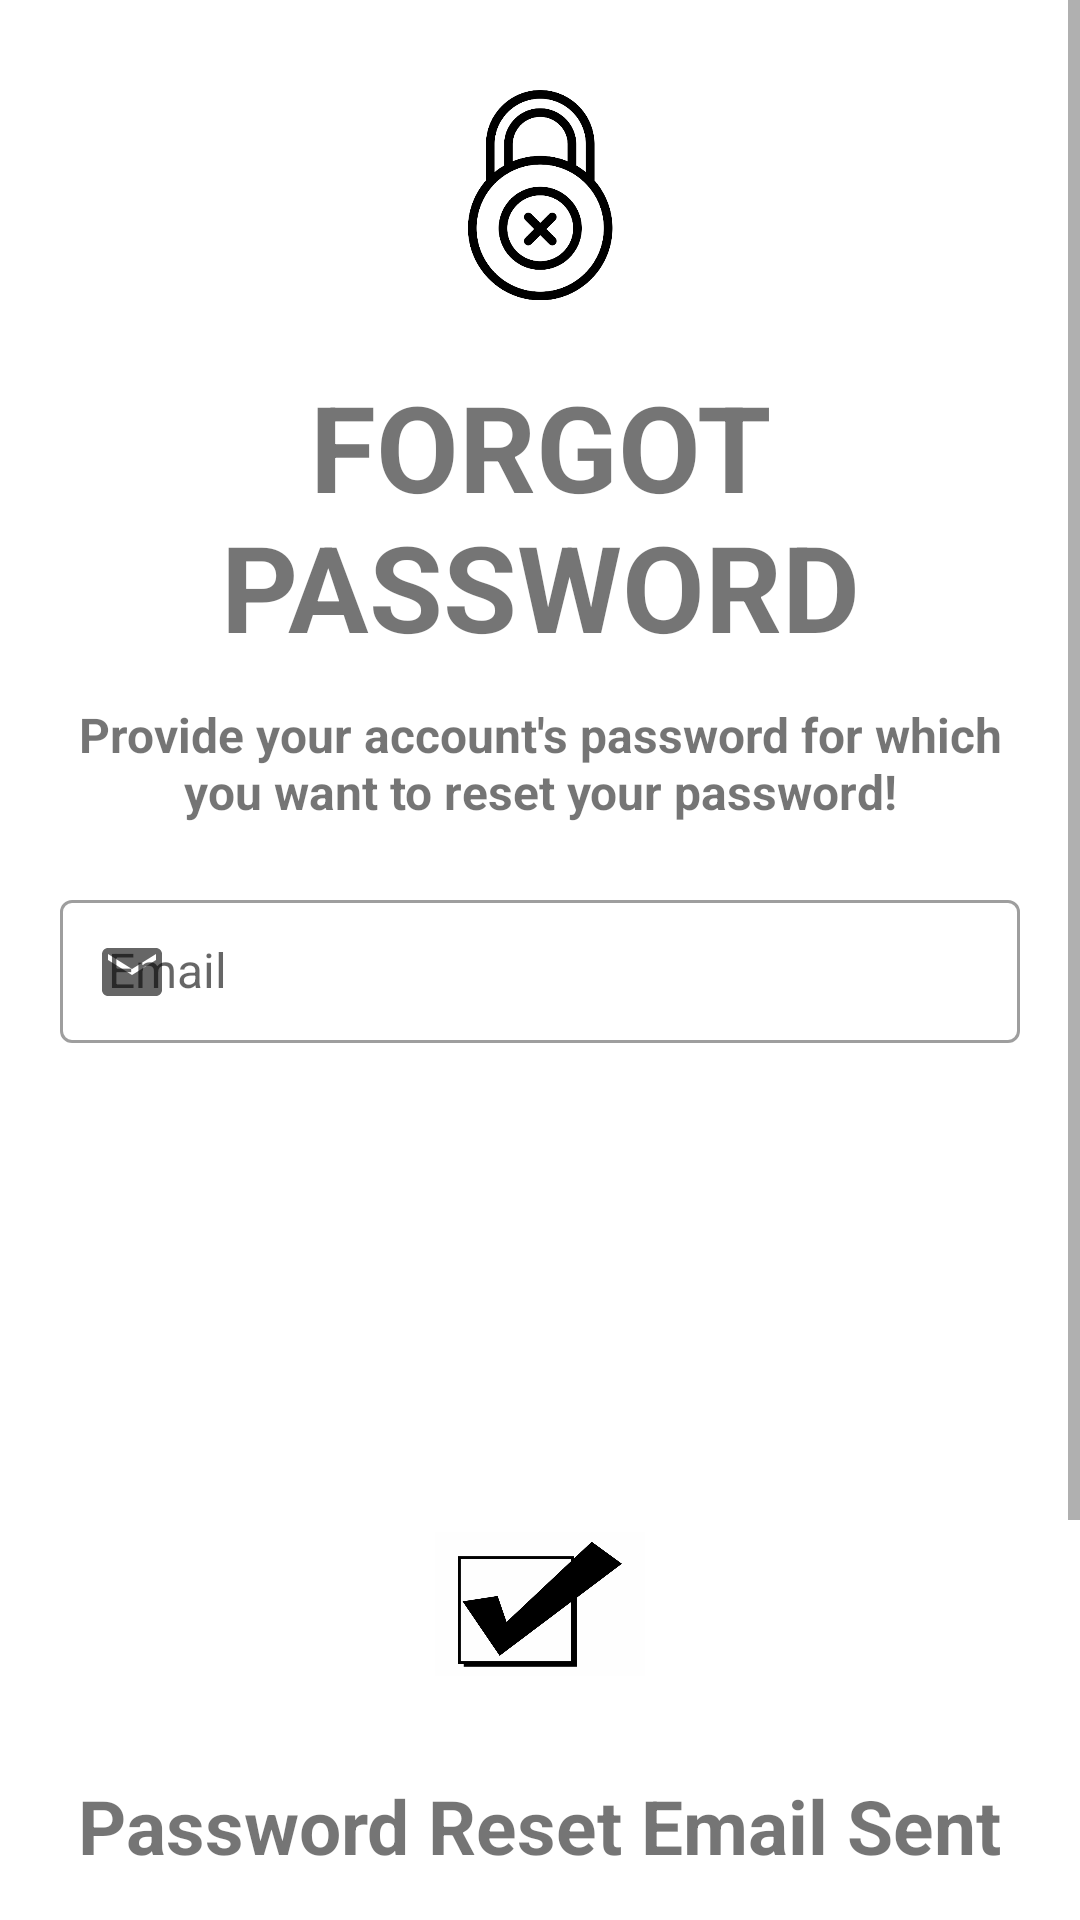

Named icons in this screenshot (1080px x 1920px) and their centers, [x,y]:
check mark: [540,1604]
lock: [540,195]
